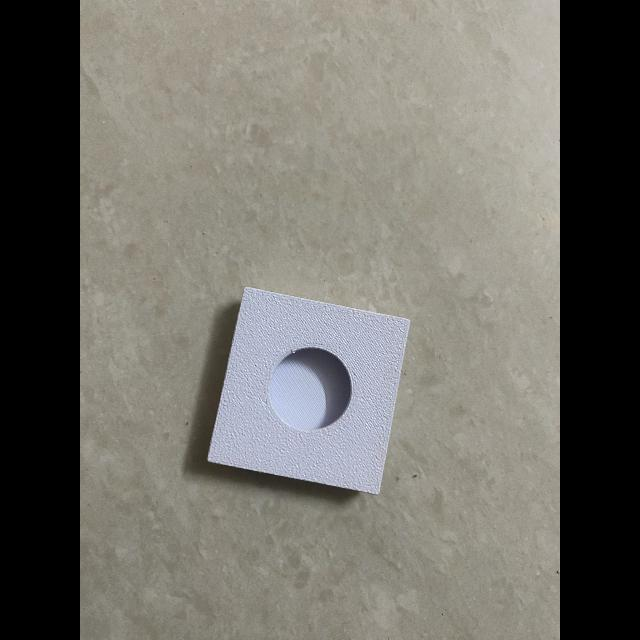RASPBERY PI CAM ENCLOSURE: (207, 287, 411, 495)
